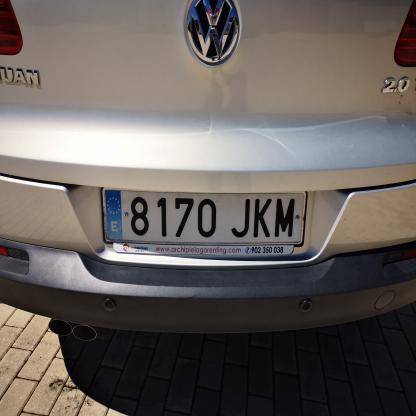patente: (101, 188, 302, 247)
